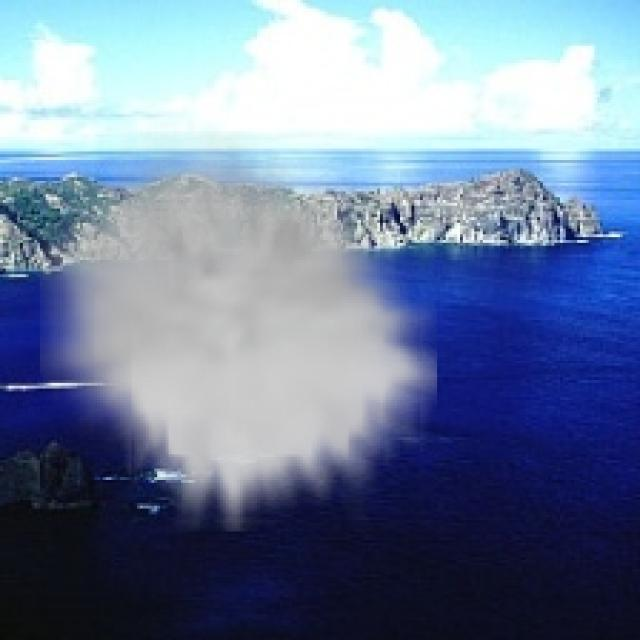smoke: (40, 132, 437, 532)
